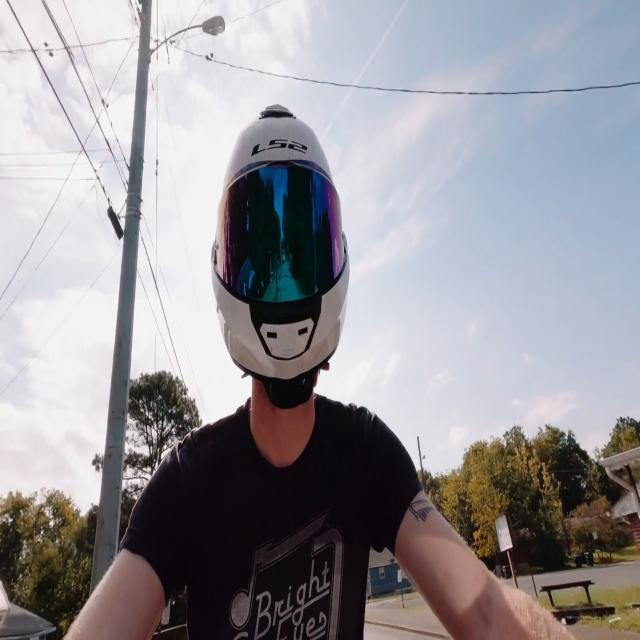Helmet_Wearer: (204, 105, 356, 438)
Person: (65, 105, 559, 640)
